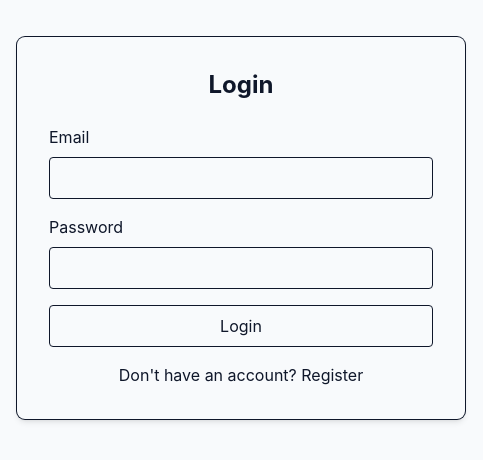
Scenario: Login › handles login error and displays message
In the field labelled "Email": (241, 178) 49,157 -> 433,199, type "test@example.com"
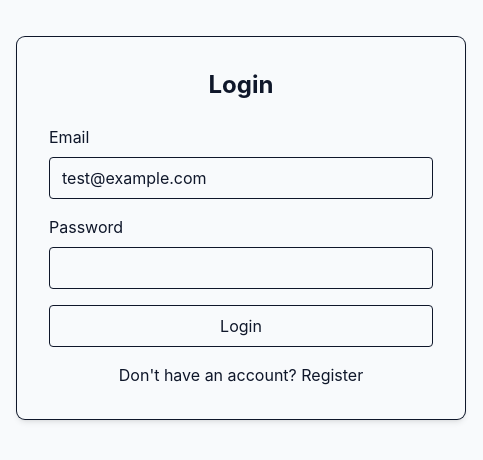
In the password field labelled "Password": (241, 268) 49,247 -> 433,289, type "password123"
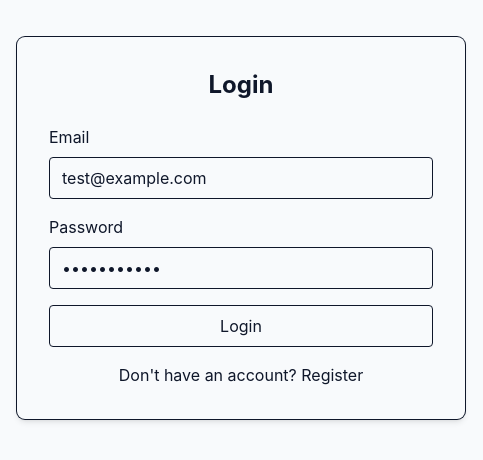
Click the button "Login": (241, 326) 49,305 -> 433,347
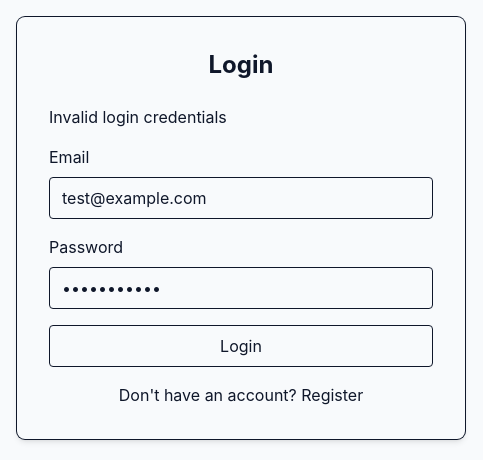
Result: the text "Invalid login credentials" is shown at 49,107 -> 227,127
